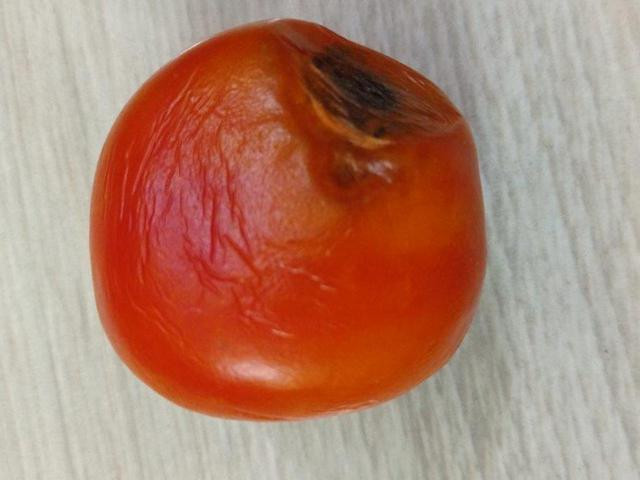defect: (83, 13, 492, 426)
